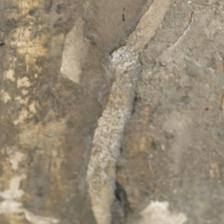Crack: (87, 1, 177, 221)
